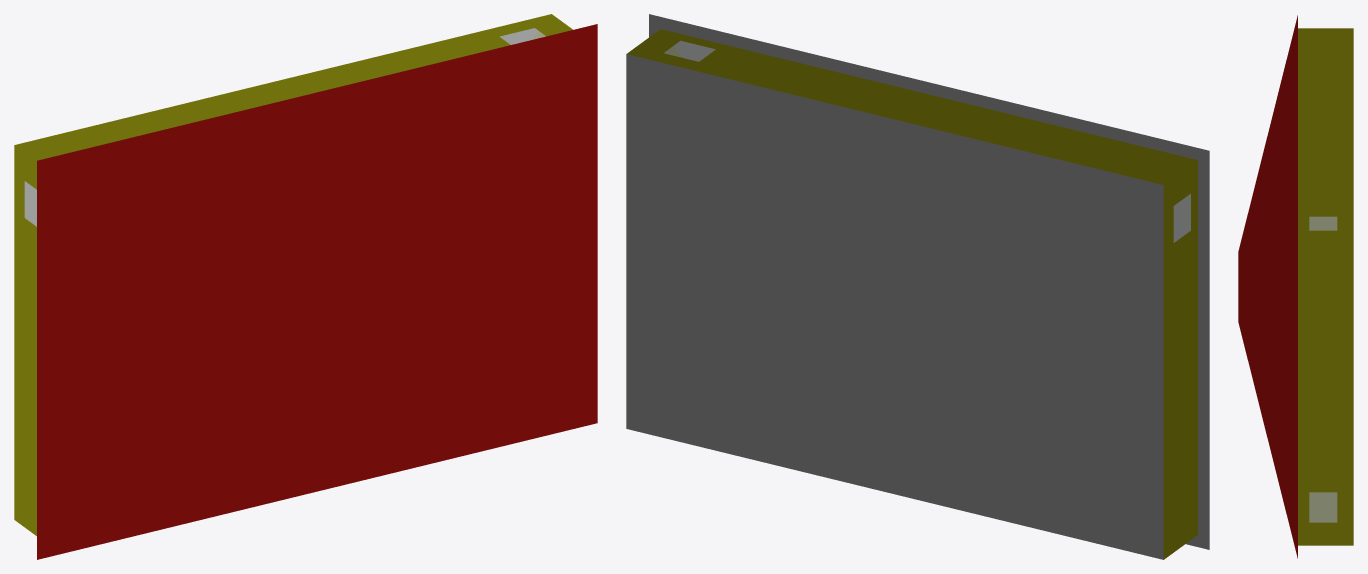
File: idf.obj
3 renders of one model, left to right at view 1: azimuth 30°, elevation 25°; view 2: azimuth 150°, elevation 25°; view 3: azimuth 270°, elevation 25°, orthographic. The views are drawn at different scales.
Bounding box in the file's own units: 28.89 × 19.66 × 6.33.
